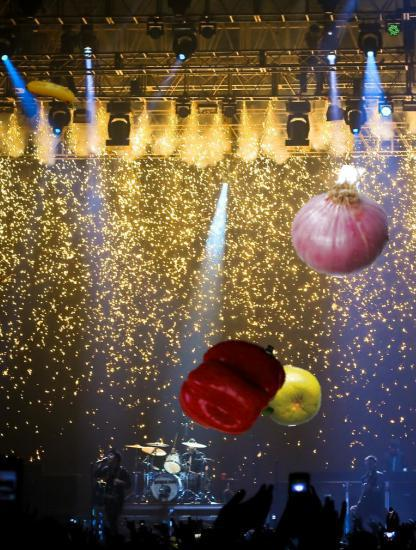Banana: (25, 68, 78, 121)
Onion: (285, 165, 398, 278)
Pepper: (183, 334, 286, 437)
Pomelo: (262, 365, 323, 426)
